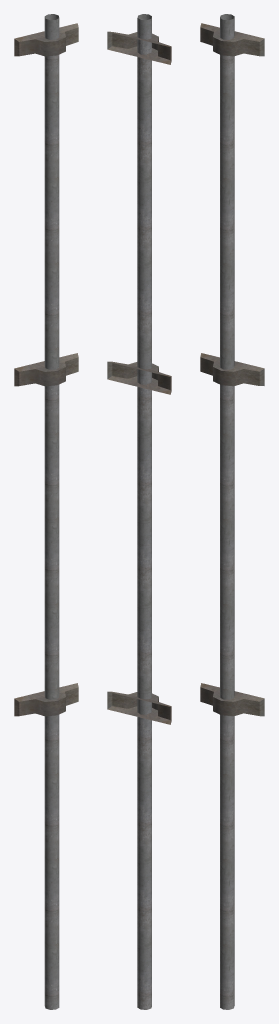
Rendered from p_glo_electrical_pipes_long_LOD0.obj.
The picture shows the model from 3 angles, left to right: view 1: azimuth 30°, elevation 25°; view 2: azimuth 150°, elevation 25°; view 3: azimuth 330°, elevation 25°; orthographic projection.
Visible parts, largest first — view 1: mtl_p_rus_pipes_modular; view 2: mtl_p_rus_pipes_modular; view 3: mtl_p_rus_pipes_modular.
Boxes of the visible parts, bbox=[...] form: mtl_p_rus_pipes_modular: bbox=[14, 14, 78, 1009]; mtl_p_rus_pipes_modular: bbox=[107, 14, 171, 1009]; mtl_p_rus_pipes_modular: bbox=[200, 14, 264, 1009].
Bounding box in the file's own units: 12.27 × 183 × 3.88.
